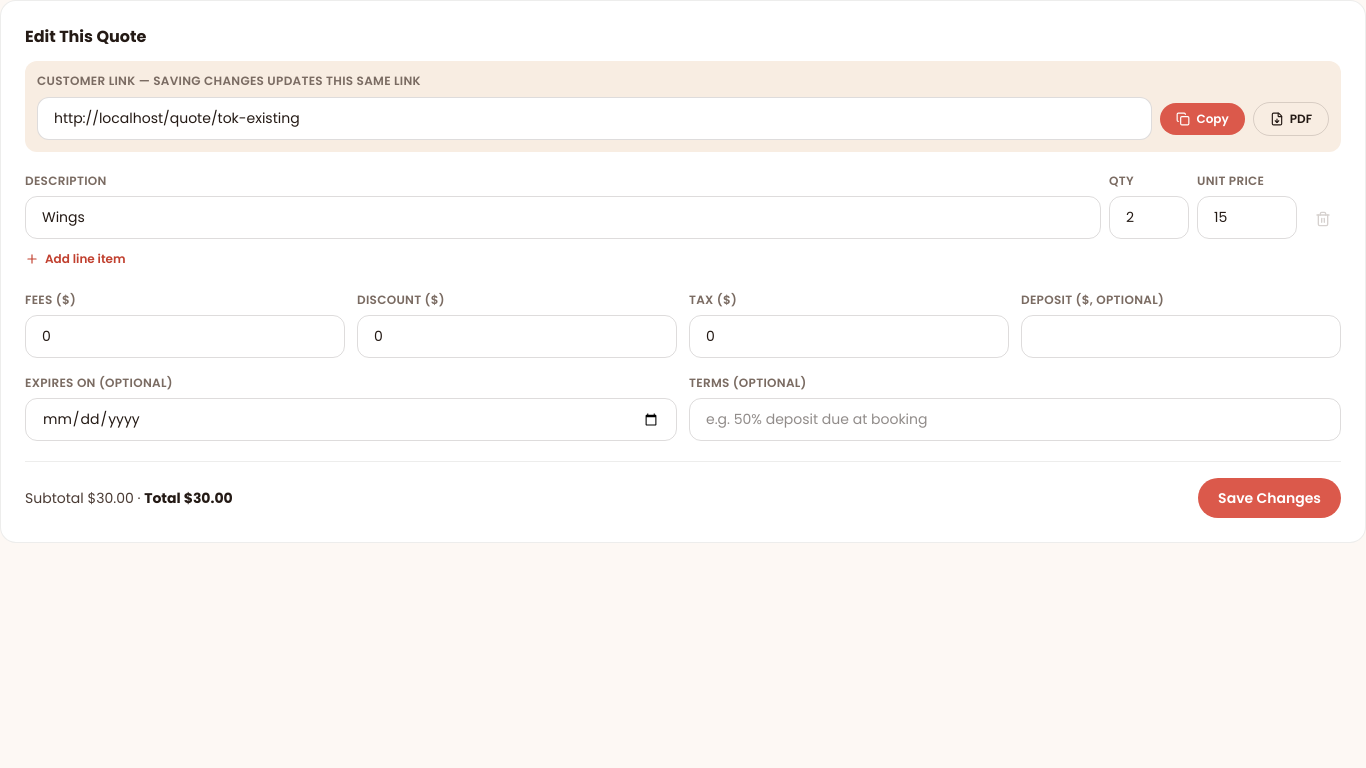
Test case: QuoteBuilder › edits an existing quote via updateQuote and shows Saved
Expected: the field showing "/quote/tok-existing" is shown, [37,97,1152,140]
Click the button "Save Changes": [1270, 498] box [1198,478,1341,518]
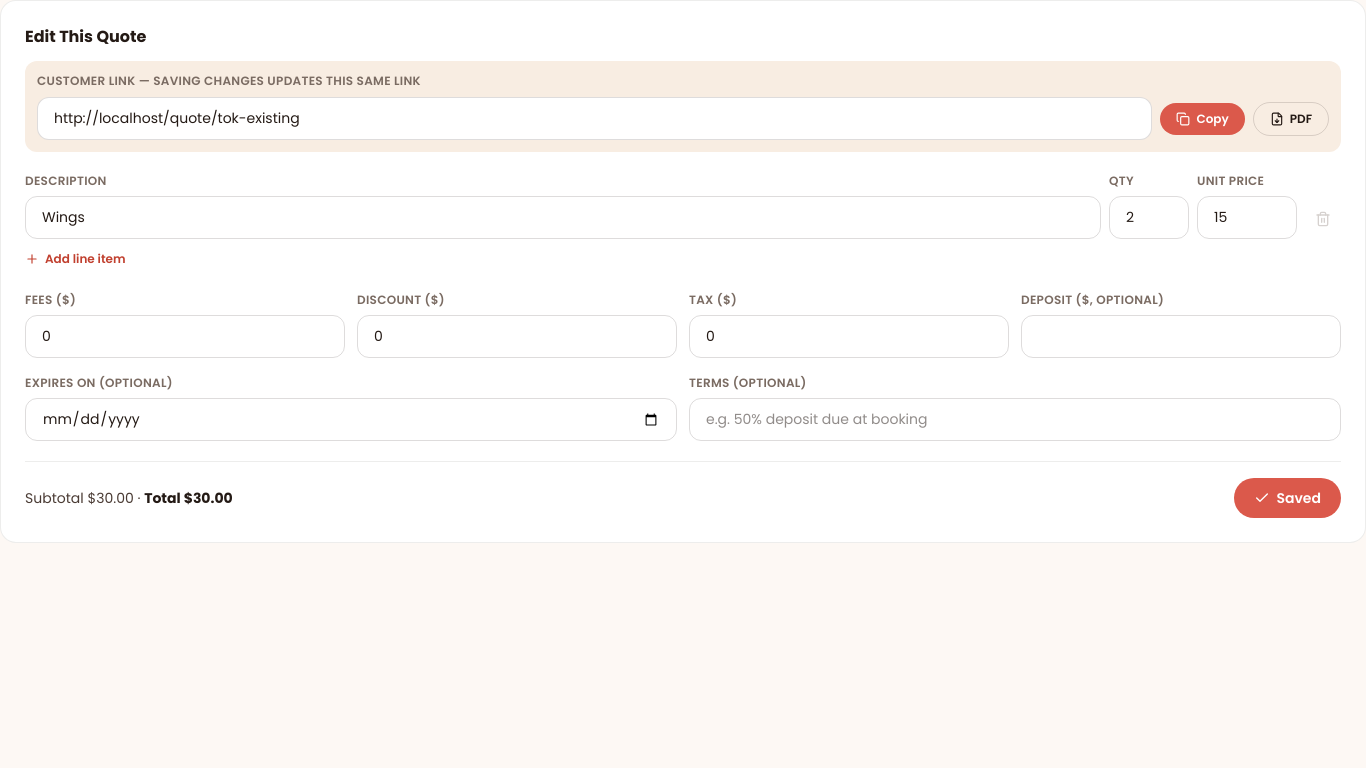
Expected: the button "Saved" is shown, [1234,478,1341,518]
